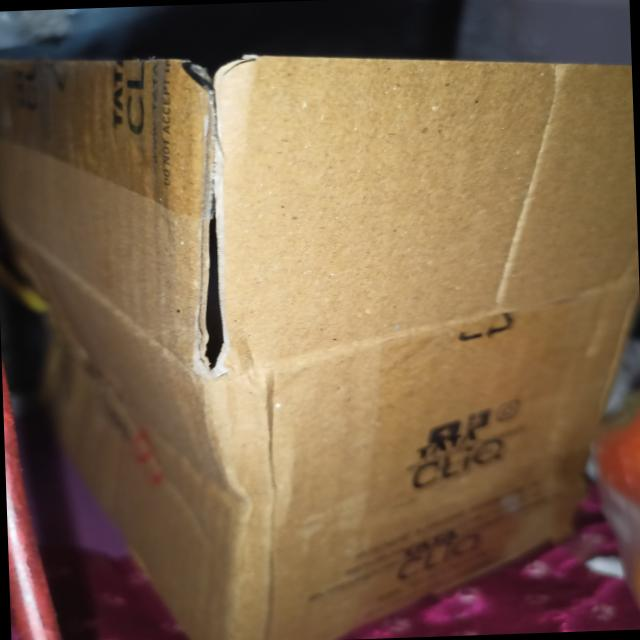cardboard_box: (0, 7, 640, 621)
